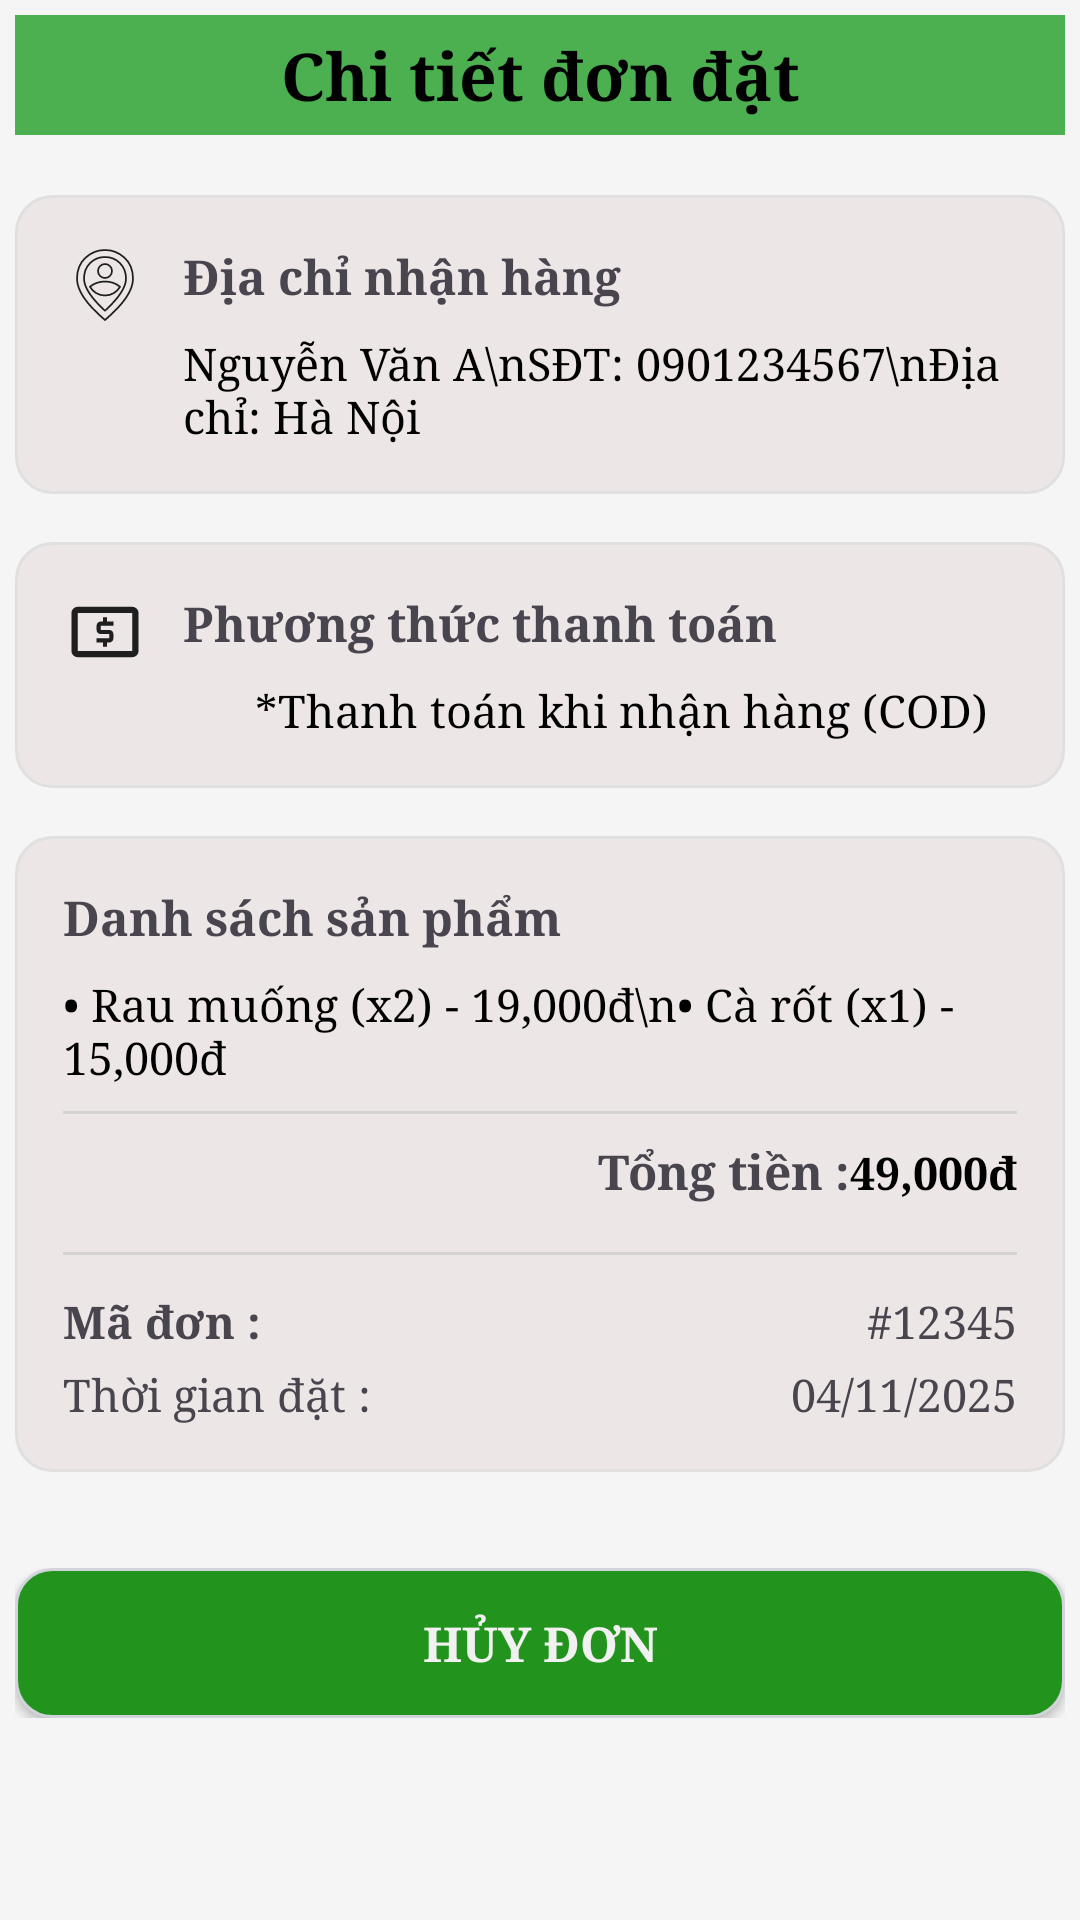

Screen size 1080 × 1920. Icon name, then its center in pixels as (x,y):
location: (105,285)
payment: (105,632)
